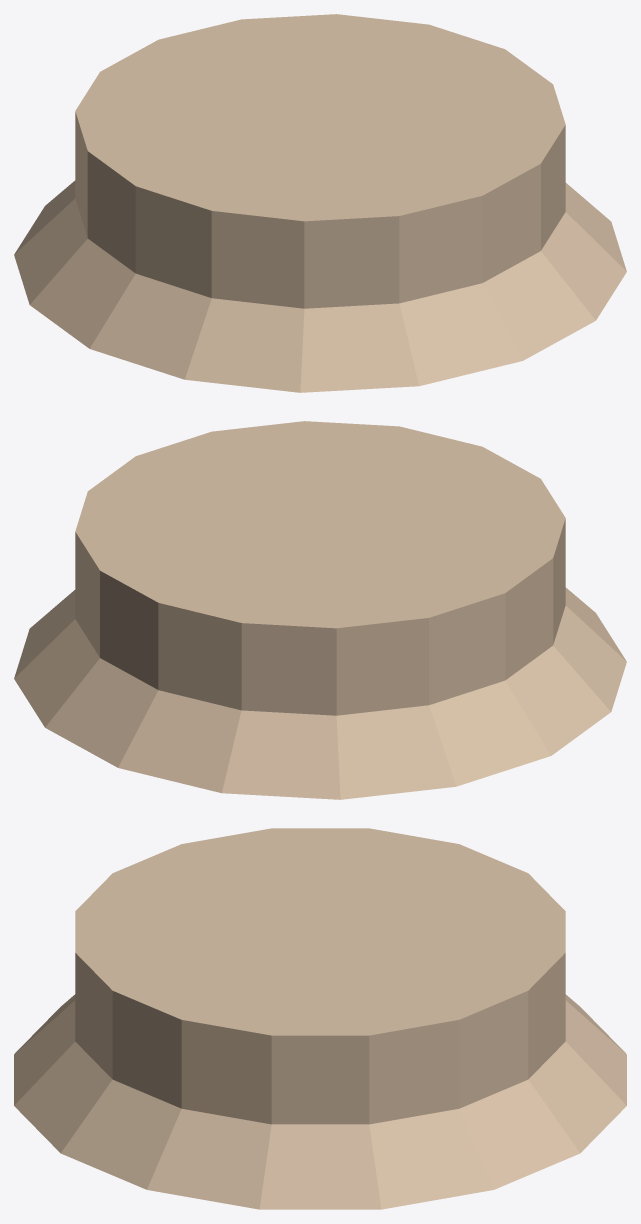
File: default collider.obj
The picture shows the model from 3 angles, top to bottom: view 1: azimuth 30°, elevation 25°; view 2: azimuth 150°, elevation 25°; view 3: azimuth 270°, elevation 25°; orthographic projection.
Visible parts, largest first — view 1: 1, 2; view 2: 1, 2; view 3: 1, 2.
Boxes of the visible parts, x1,y1,x2,y2 form: 1: (75, 14, 565, 308); 2: (14, 180, 626, 392); 1: (75, 421, 565, 715); 2: (14, 587, 626, 799); 1: (75, 828, 565, 1124); 2: (14, 994, 626, 1209).
Size of the model in its own units: 0.9375 by 0.25 by 0.9375.
